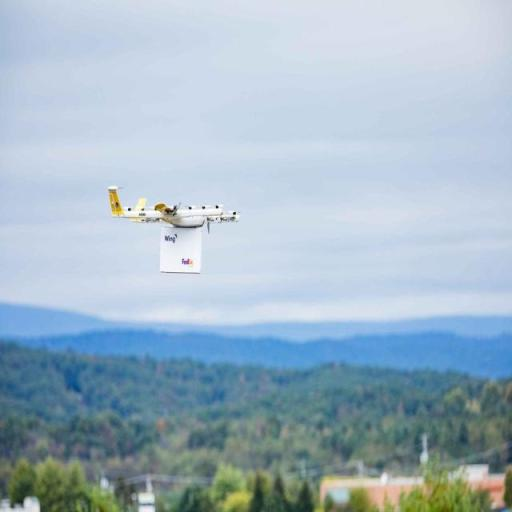uav: (104, 178, 242, 277)
